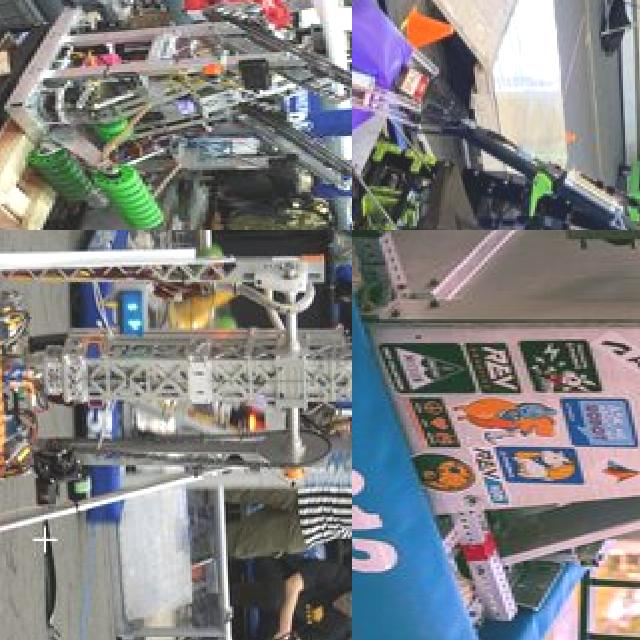FRC-Robots: (0, 230, 352, 640), (352, 230, 640, 640), (352, 0, 640, 230), (0, 0, 352, 182)
